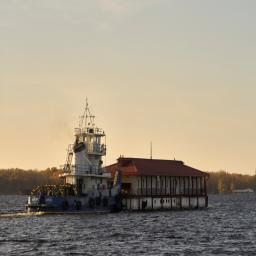tugboat: (24, 126, 128, 218)
